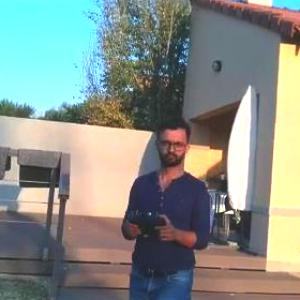follow: (116, 111, 216, 299)
